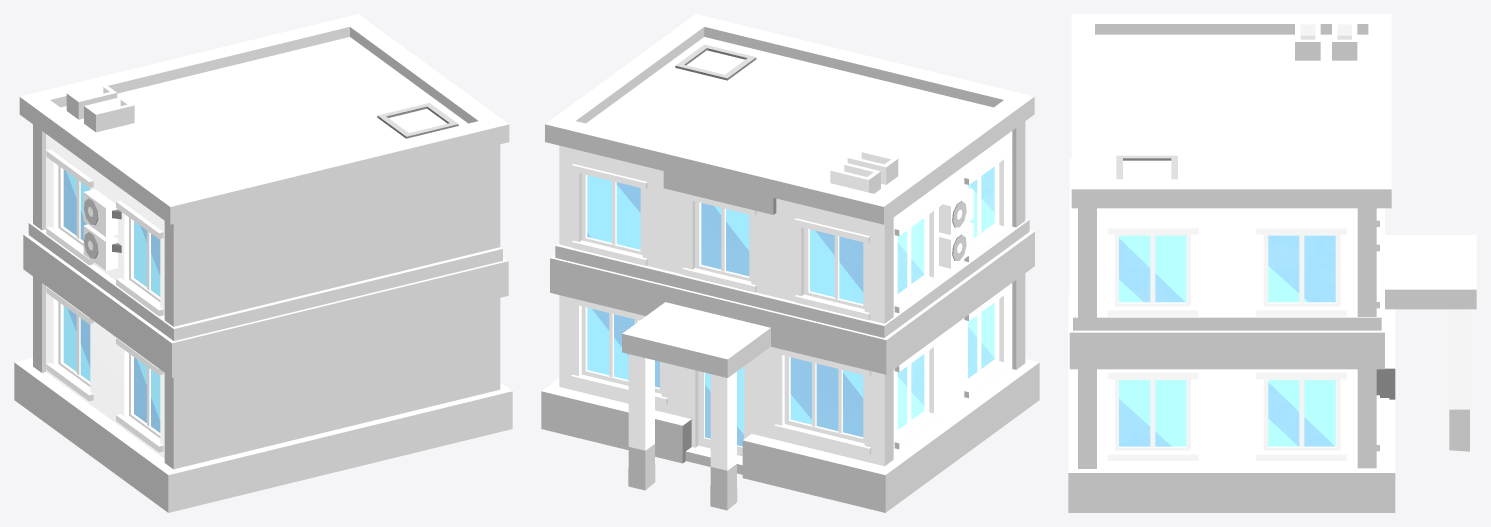
Rendered from bank.003.glb.
The picture shows the model from 3 angles, left to right: view 1: azimuth 30°, elevation 25°; view 2: azimuth 150°, elevation 25°; view 3: azimuth 270°, elevation 25°; orthographic projection. The views are drawn at different scales.
Visible parts, largest first — view 1: bank.003(Clone); view 2: bank.003(Clone); view 3: bank.003(Clone).
Part boxes in pixels (x1=…): bank.003(Clone): x1=14, y1=14, x2=512, y2=512; bank.003(Clone): x1=541, y1=14, x2=1039, y2=512; bank.003(Clone): x1=1068, y1=14, x2=1476, y2=512.
Bounding box in the file's own units: 7.1 × 6.17 × 6.87.
1 material, 1 textured.
